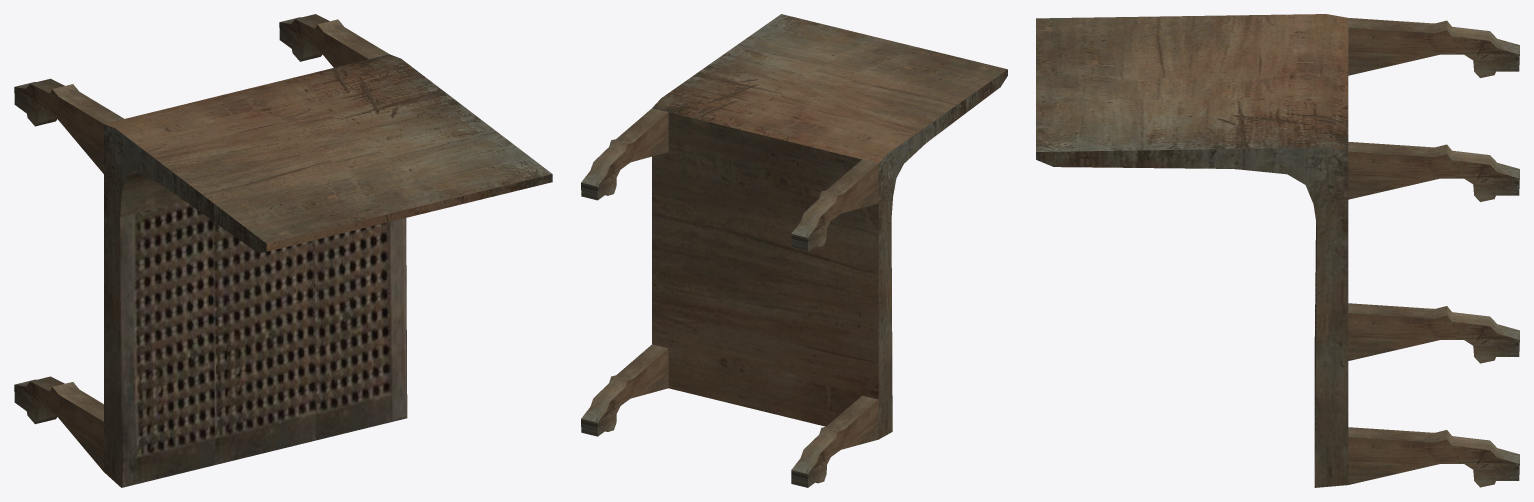
Rendered from furniture_northafrica_egyptianchair.glb.
3 renders of one model, left to right at view 1: azimuth 30°, elevation 25°; view 2: azimuth 150°, elevation 25°; view 3: azimuth 270°, elevation 25°, orthographic. The views are drawn at different scales.
Bounding box in the file's own units: 26 × 30.87 × 39.78.
1 material, 1 textured.
